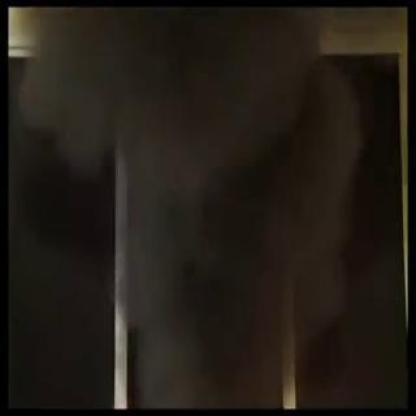Smoke: (55, 8, 343, 387)
